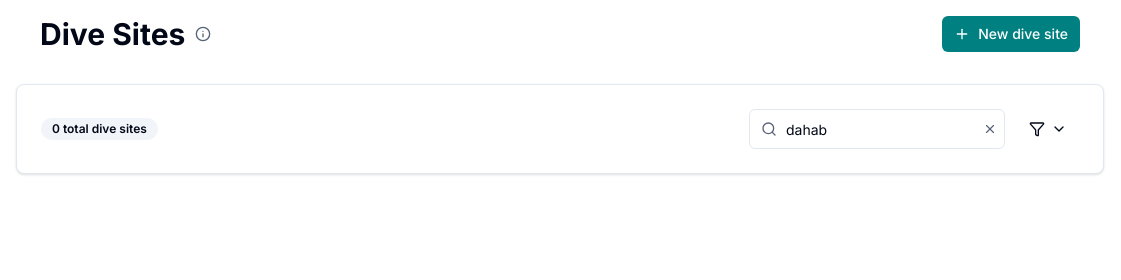
it: SitesPageFrame filters › shuts the tag and the order behind the funnel, keeping the search
The width and height of the screenshot is (1121, 280).
Click the button named "Filter and sort dive sites" at (1048, 129), box [1017, 111, 1079, 147]
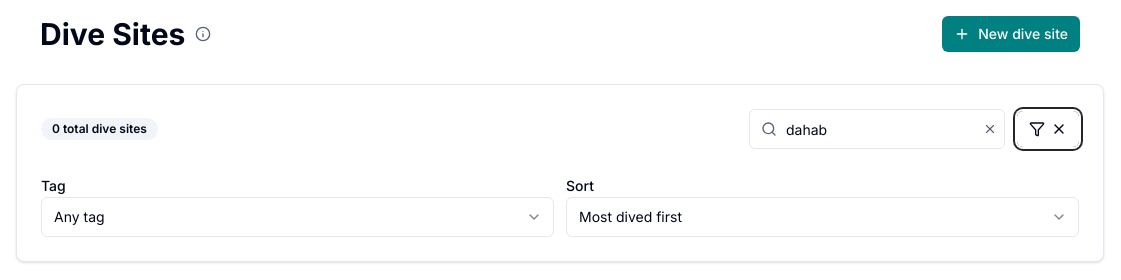
Result: the dropdown labelled "Tag" is shown at [41, 197, 554, 237]
Click the button named "Close filters, clearing them" at (1048, 129), box [1017, 111, 1079, 147]
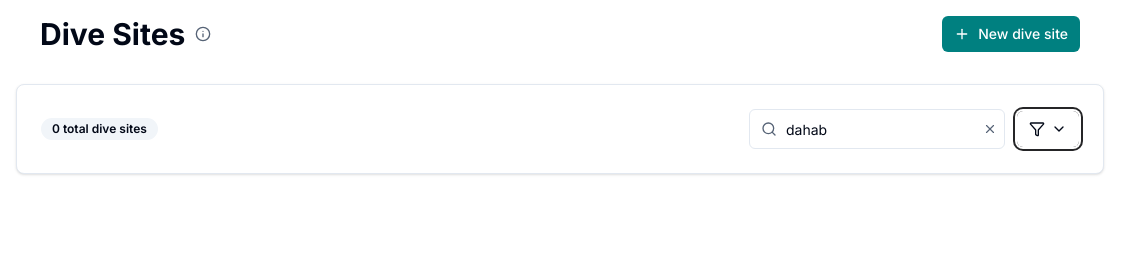
Result: the label labelled "Tag" is gone
